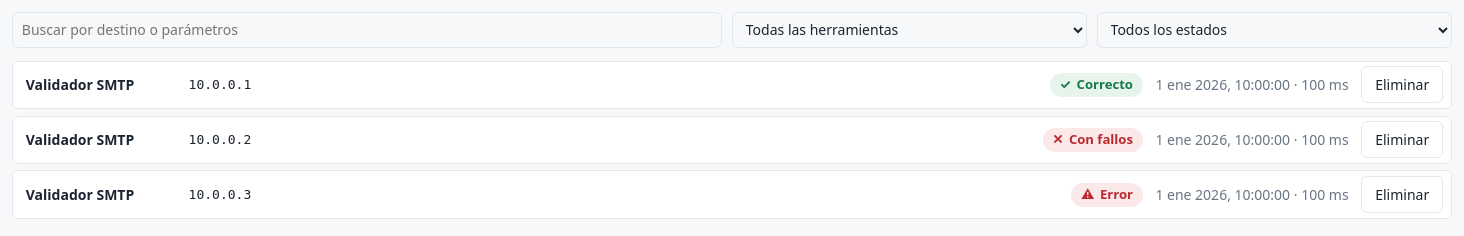
filtro por estado › deja solo lo elegido
Select "Con fallos" in the dropdown named "Filtrar por estado" at point(1274, 30), box [1097,12,1452,48]
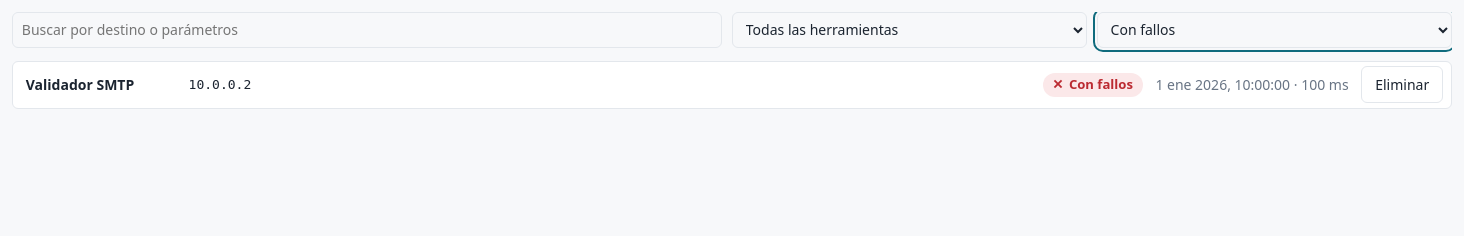
Expected: the list item shows "10.0.0.2", [21,66,1353,103]
Now the number of list items is 1, box [12,61,1452,109]
